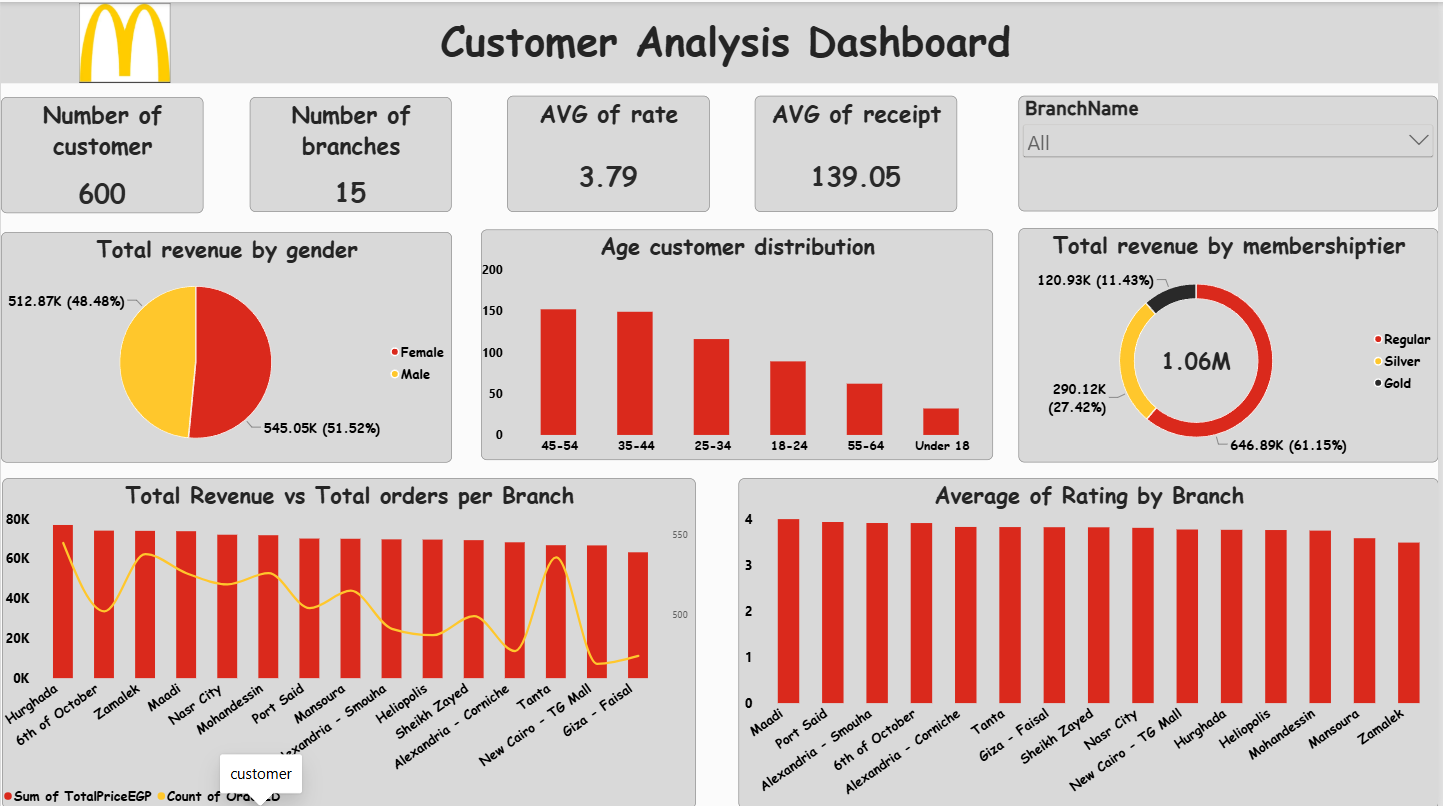

The dashboard page shown, as its layout file describes it:
{"tool":"powerbi","page":{"name":"customer ","canvas":[1920,1080],"ordinal":2},"visuals":[{"type":"donutChart","title":"Total revenue by membershiptier","fields":{"Category":["Customers.MembershipTier"],"Y":["Sum(Orders.TotalPriceEGP)"]},"box":[1359.1,302.2,561,313.1],"z":0},{"type":"cardVisual","title":"Number of branches ","fields":{"Data":["Count(Branches.BranchID)"]},"box":[333,126.7,269.6,153.8],"z":1000},{"type":"lineClusteredColumnComboChart","title":"Total Revenue vs Total orders per Branch","fields":{"Category":["Branches.BranchName"],"Y":["Sum(Orders.TotalPriceEGP)"],"Y2":["CountNonNull(Orders.OrderID)"]},"box":[1.8,637,926.5,441.6],"z":2000},{"type":"cardVisual","title":"AVG of receipt","fields":{"Data":["Avg(Orders.TotalPriceEGP)"]},"box":[1006.2,124.9,270,155],"z":3000},{"type":"cardVisual","title":"Number of customer","fields":{"Data":["Branches.Customers Count"]},"box":[0,126.7,270,155],"z":4000},{"type":"cardVisual","title":"AVG of rate","fields":{"Data":["Avg(Reviews.Rating)"]},"box":[676.8,124.9,270,155],"z":5000},{"type":"pieChart","title":"Total revenue by gender","fields":{"Category":["Customers.Gender"],"Y":["Sum(Orders.TotalPriceEGP)"]},"box":[0,307.6,602.6,307.6],"z":6000},{"type":"slicer","fields":{"Values":["Branches.BranchName"]},"box":[1360,126,560,154],"z":7000},{"type":"clusteredColumnChart","title":"Age customer distribution ","fields":{"Category":["Customers.Age Group"],"Y":["CountNonNull(Customers.CustomerID)"]},"box":[642,304,684.1,307.6],"z":8000},{"type":"shape","box":[0,0,1920.1,108.6],"z":9000},{"type":"textbox","box":[14.5,12.7,1905.6,83.2],"z":10000},{"type":"clusteredColumnChart","title":"Average of Rating by Branch","fields":{"Category":["Branches.BranchName"],"Y":["Avg(Reviews.Rating)"]},"box":[984.5,637,935.6,441.6],"z":11000},{"type":"image","box":[15,1.7,300.4,106.8],"z":11001}]}

Visuals, with their boxes in screenshot pixels (x1, y1, x2, y2), scaled from the page's 1920x1080 canvas onto the 1443x806 screenshot:
"Total revenue by membershiptier" donutChart: <bbox>1021, 226, 1442, 459</bbox>
"Number of branches " cardVisual: <bbox>250, 95, 453, 209</bbox>
"Total Revenue vs Total orders per Branch" lineClusteredColumnComboChart: <bbox>1, 475, 698, 805</bbox>
"AVG of receipt" cardVisual: <bbox>756, 93, 959, 209</bbox>
"Number of customer" cardVisual: <bbox>0, 95, 203, 210</bbox>
"AVG of rate" cardVisual: <bbox>509, 93, 712, 209</bbox>
"Total revenue by gender" pieChart: <bbox>0, 230, 453, 459</bbox>
slicer - Branches.BranchName: <bbox>1022, 94, 1442, 209</bbox>
"Age customer distribution " clusteredColumnChart: <bbox>483, 227, 997, 456</bbox>
shape: <bbox>0, 0, 1442, 81</bbox>
textbox: <bbox>11, 9, 1442, 72</bbox>
"Average of Rating by Branch" clusteredColumnChart: <bbox>740, 475, 1442, 805</bbox>
image: <bbox>11, 1, 237, 81</bbox>
